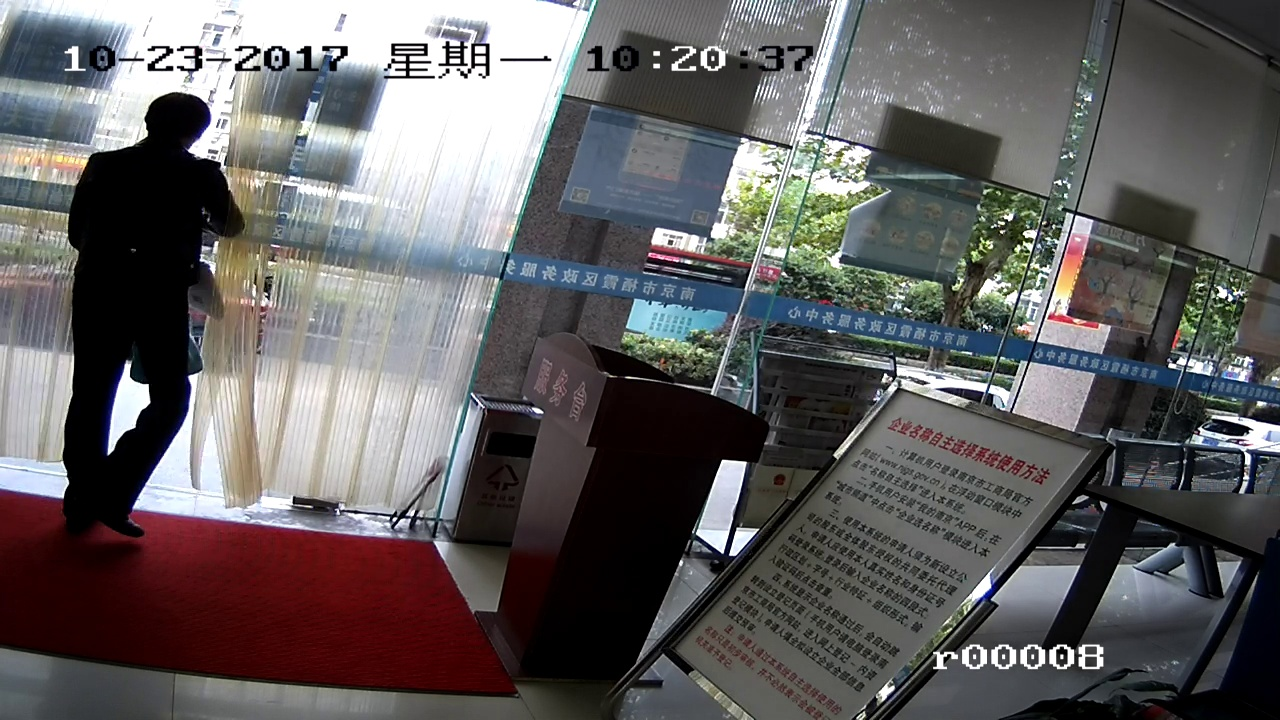billboard: (760, 399, 1034, 671)
desk: (508, 335, 695, 652)
person: (62, 92, 234, 550)
